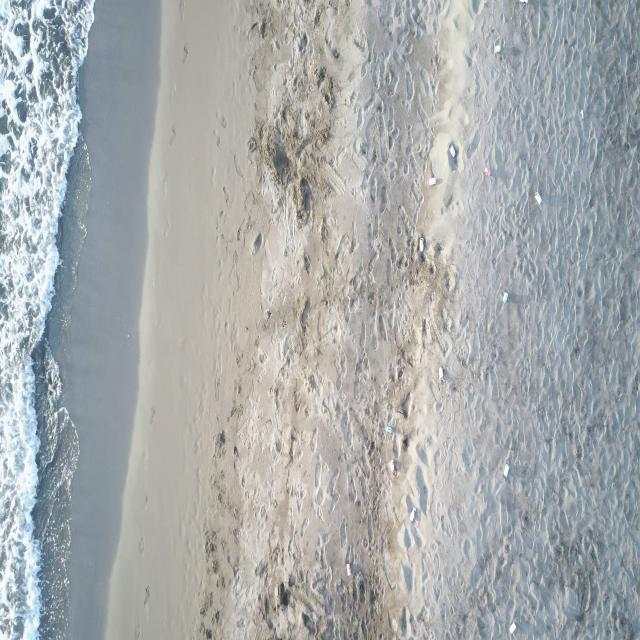Garbage: (417, 236, 424, 252), (448, 143, 455, 158), (387, 460, 395, 472), (533, 191, 540, 204), (437, 367, 444, 380), (409, 507, 415, 522), (427, 176, 437, 184), (484, 166, 491, 176), (508, 624, 515, 633), (503, 291, 508, 303), (503, 464, 508, 476), (346, 563, 351, 575), (493, 44, 500, 52), (387, 424, 392, 432), (580, 108, 583, 118), (519, 0, 527, 3)
